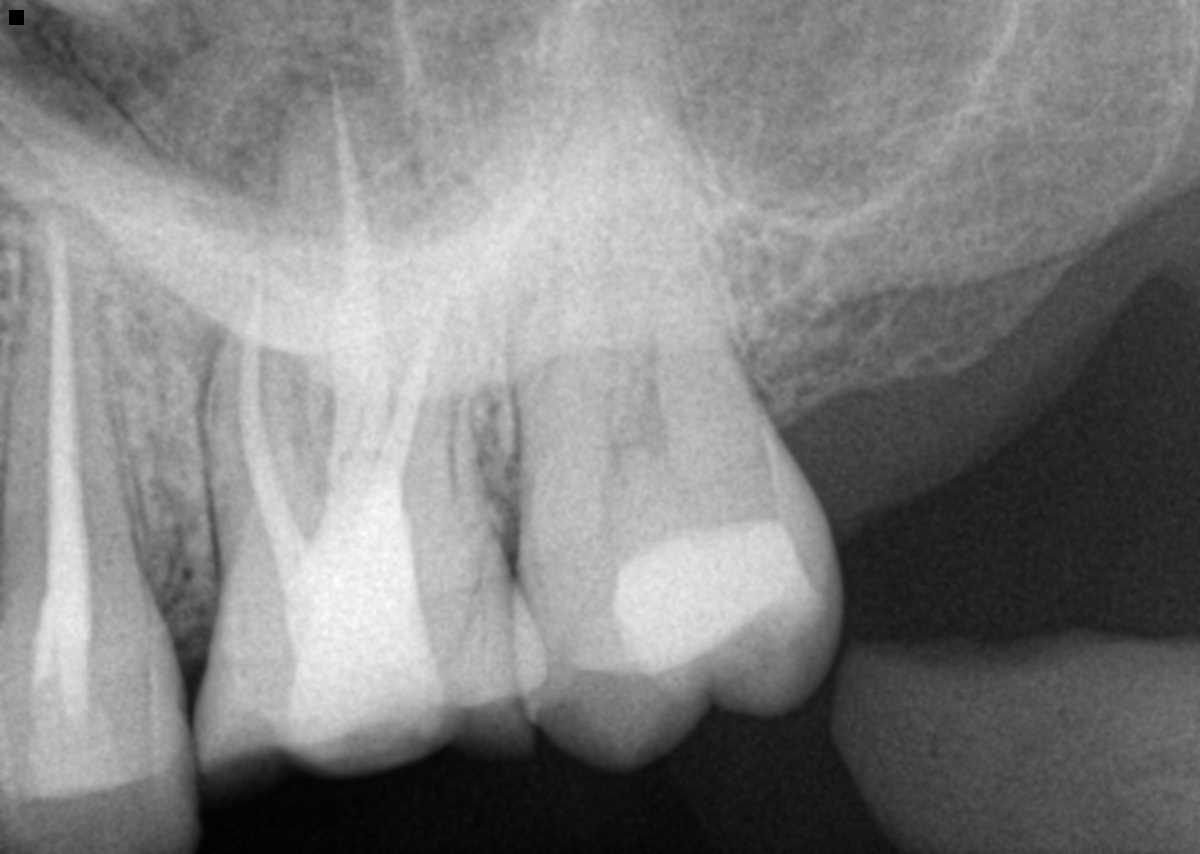Apical Lesion: (227, 31, 410, 185)
Distal Root: (335, 272, 461, 524)
Main Root: (514, 28, 772, 522), (0, 206, 166, 654)
Mesial Root: (201, 291, 327, 573)
Palatal Root: (271, 81, 485, 562)
Root Canal Filling: (307, 84, 400, 552), (28, 219, 95, 650), (370, 285, 453, 512), (239, 274, 301, 534)
